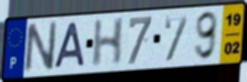7: (163, 13, 190, 64), (127, 15, 154, 65)
9: (192, 10, 220, 62)
A: (52, 21, 86, 71)
H: (90, 16, 126, 70)
N: (22, 19, 59, 75)
